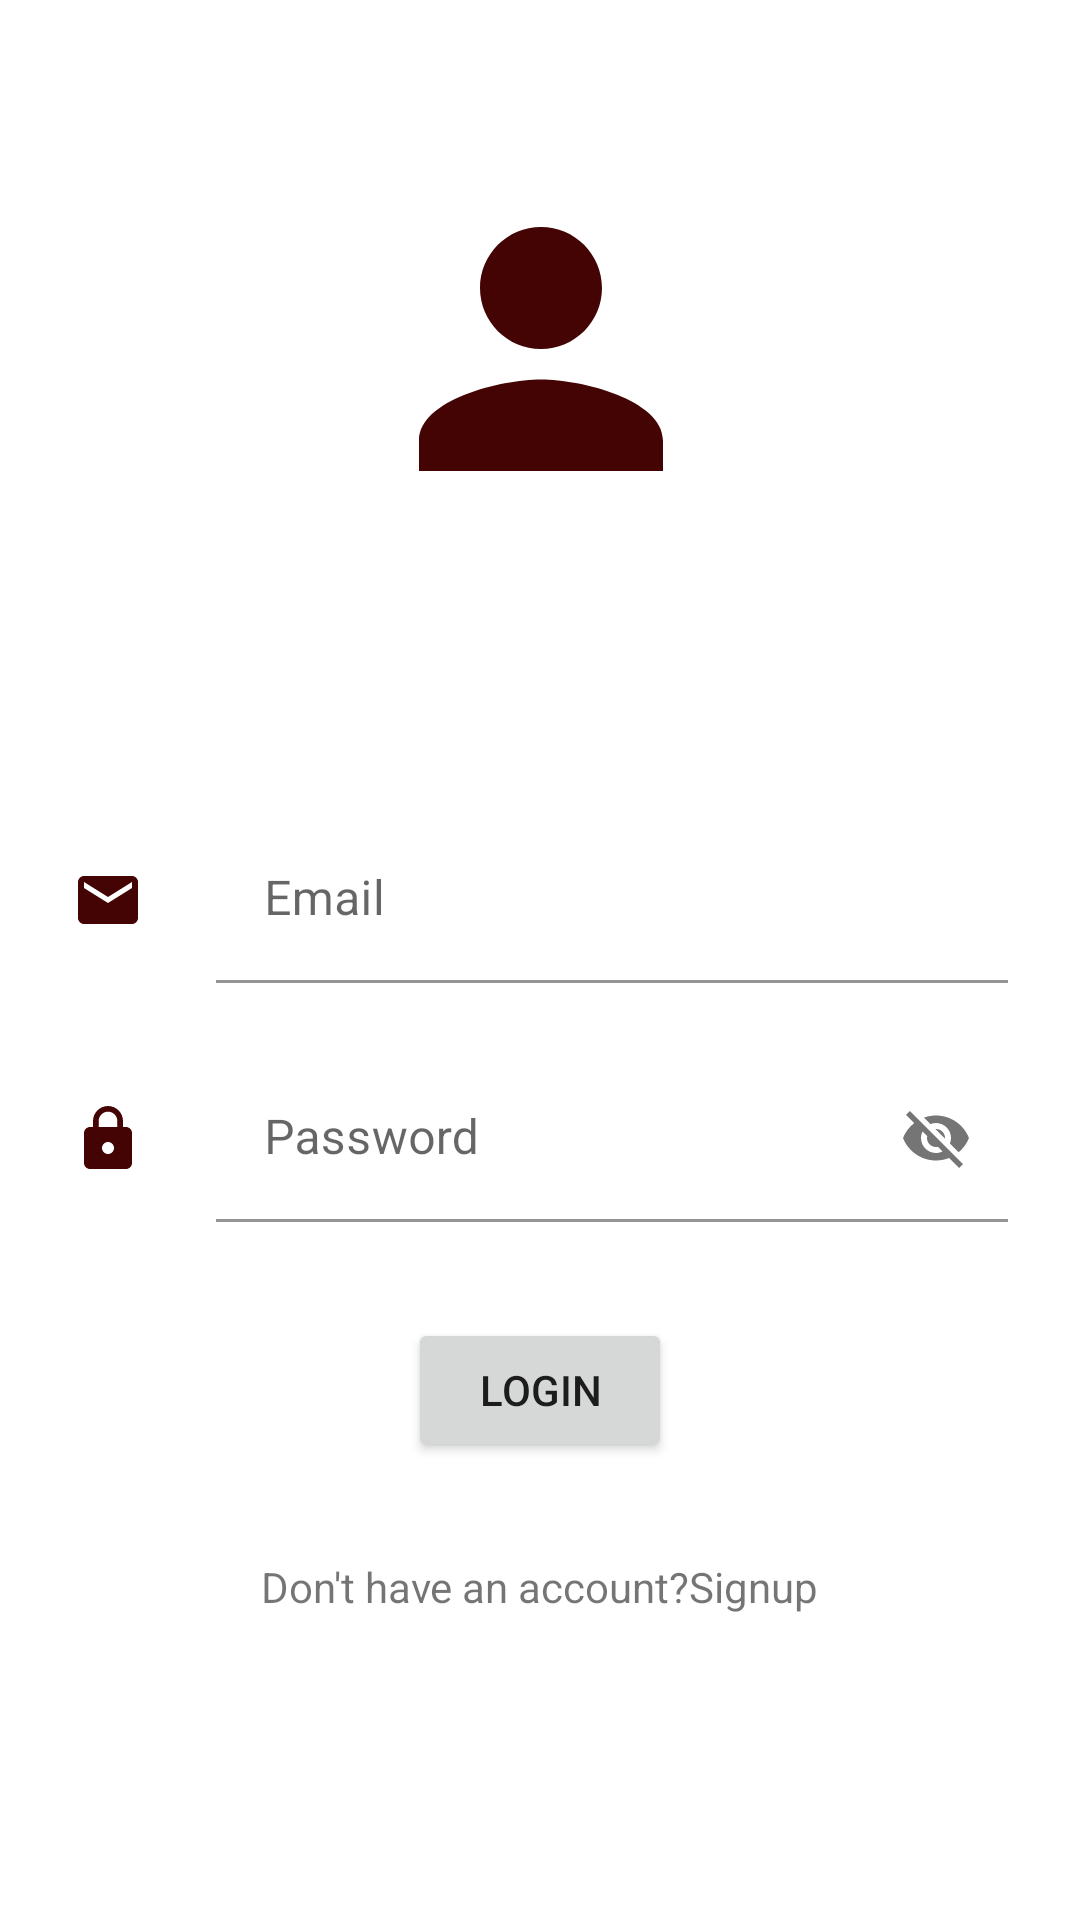

Screen size 1080x1920. Icon name, then its center in pixels as point (x, y):
lock: point (108, 1137)
person: point (541, 349)
